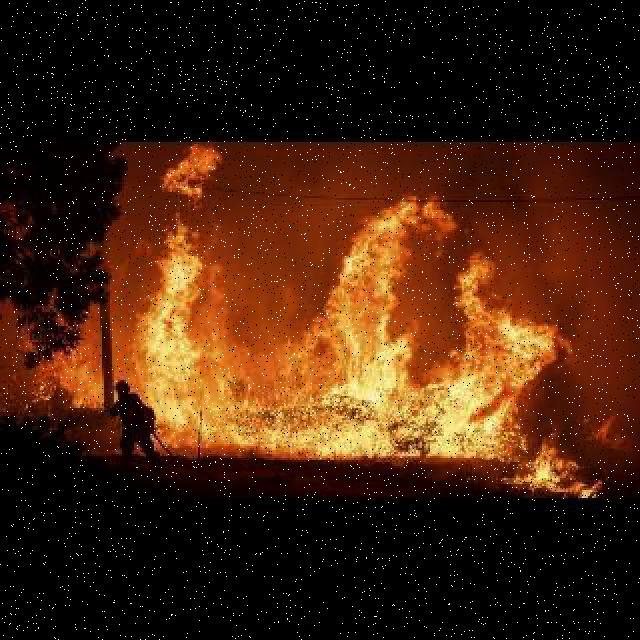fire: (138, 206, 596, 492)
